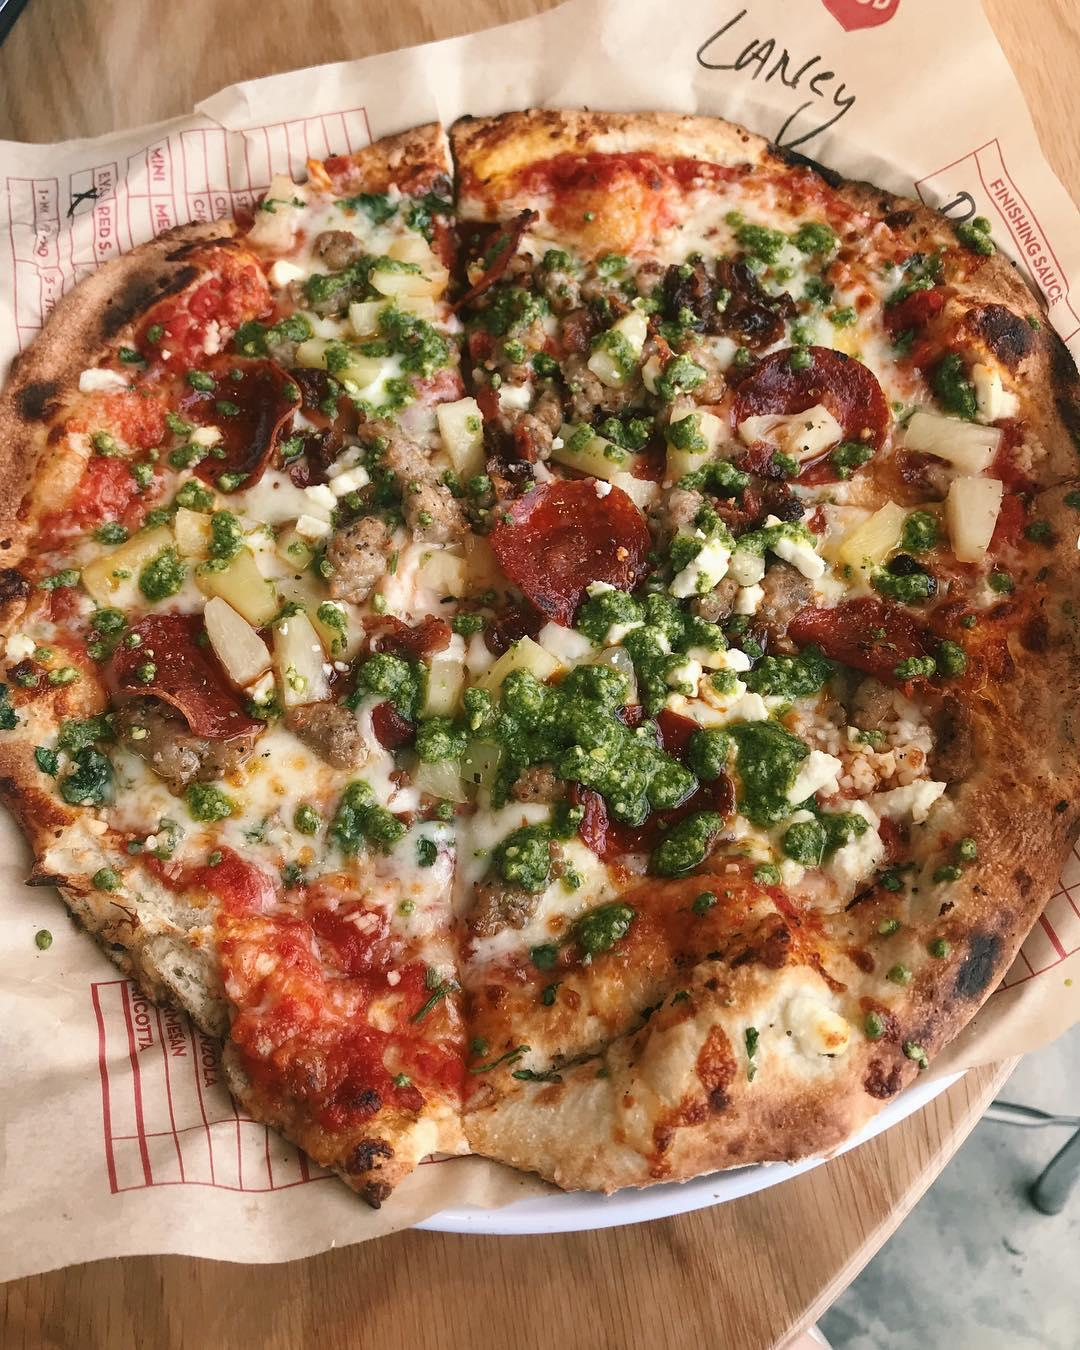Pepperoni: (496, 480, 652, 630), (580, 706, 726, 865), (732, 349, 882, 483), (791, 595, 960, 705), (115, 616, 251, 736), (182, 356, 299, 489)
Pizza: (0, 108, 1080, 1194)
